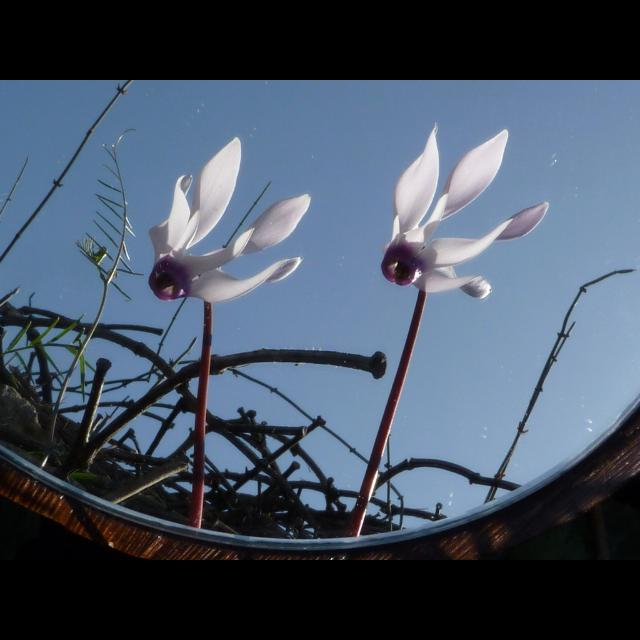Flower: (370, 120, 552, 304), (144, 132, 310, 306)
